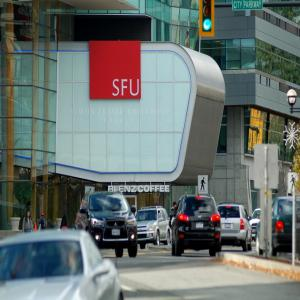Vehicle-registration-plate: (113, 228, 121, 235), (197, 223, 204, 230), (225, 224, 231, 230)
